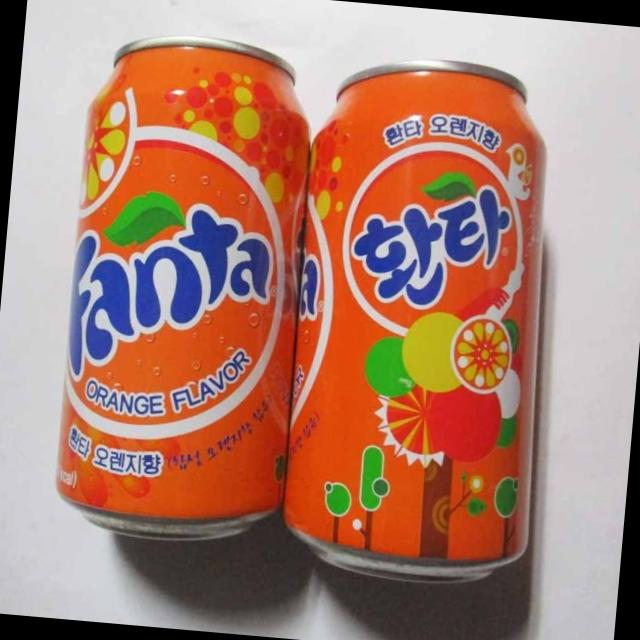fanta: (270, 59, 572, 592), (47, 34, 320, 560)
